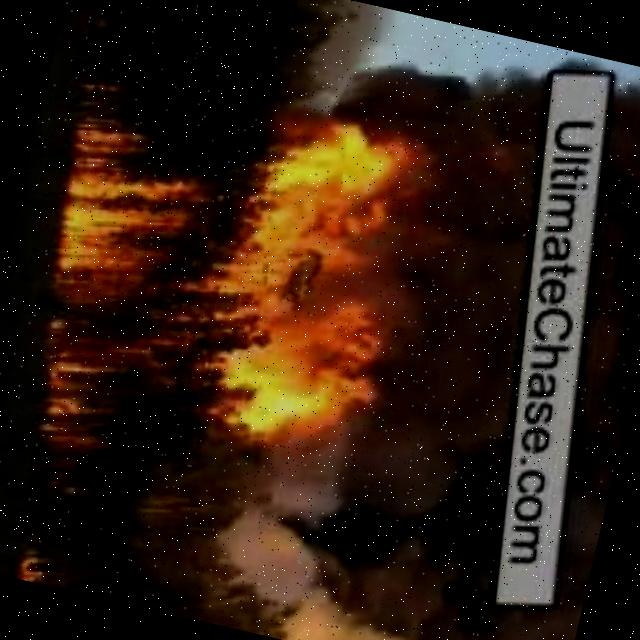fire: (173, 87, 438, 469), (2, 33, 233, 451), (18, 543, 63, 587)
